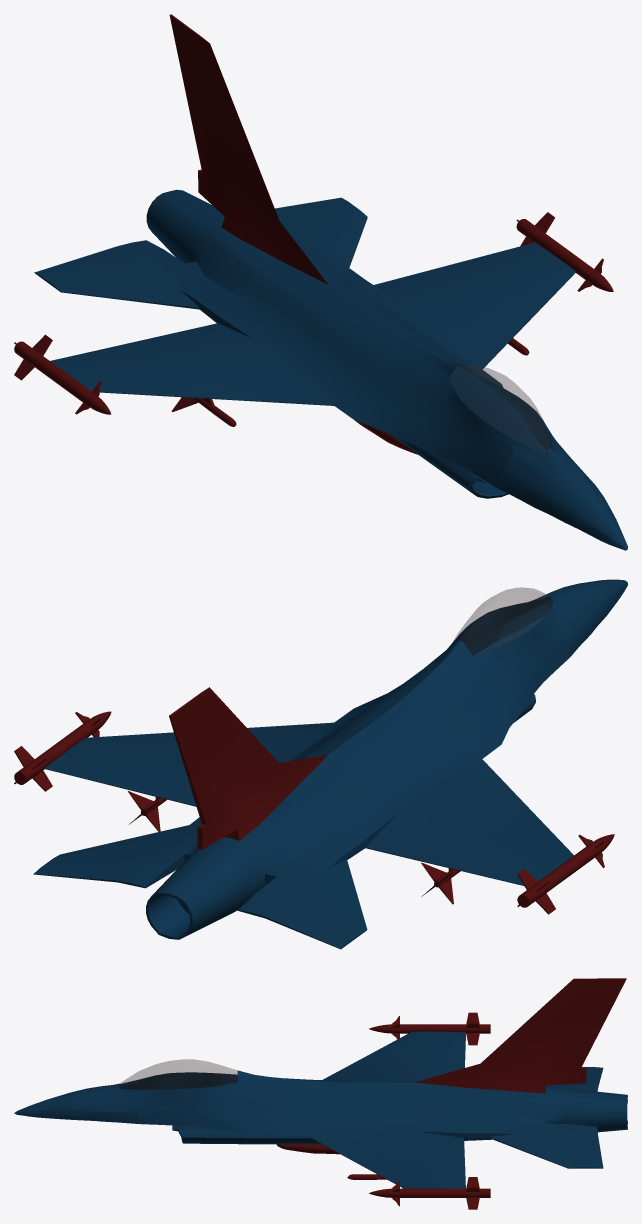
The picture shows the model from 3 angles, top to bottom: view 1: azimuth 30°, elevation 25°; view 2: azimuth 150°, elevation 25°; view 3: azimuth 270°, elevation 25°; orthographic projection. The views are drawn at different scales.
Parts seen in each view (by area): view 1: f16body, wings, rudder, stabs, bombs, glass, thrust; view 2: f16body, wings, rudder, stabs, bombs, thrust, glass; view 3: f16body, wings, rudder, bombs, stabs, glass, thrust, fueltank.
Boxes of the visible parts, x1,y1,x2,y2 form: f16body: (118,206,627,550); wings: (50,242,575,405); rudder: (169,14,328,284); stabs: (34,197,367,309); bombs: (14,212,613,426); glass: (449,364,552,453); thrust: (146,189,213,256); f16body: (117,579,627,919); wings: (44,722,573,885); rudder: (169,687,327,849); stabs: (33,825,367,949); bombs: (14,711,614,914); thrust: (146,864,229,939); glass: (450,587,553,654); f16body: (14,1070,597,1144); wings: (308,1031,465,1188); rudder: (415,978,626,1093); bombs: (347,1012,490,1209); stabs: (488,1067,603,1168); glass: (119,1059,237,1088); thrust: (586,1090,627,1132); fueltank: (276,1144,339,1154).
Bounding box in the file's own units: 7.92 × 3.67 × 11.76.
